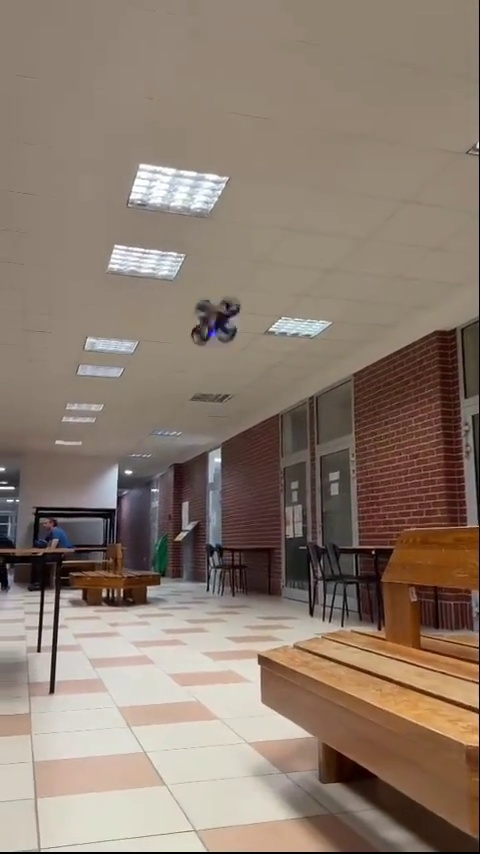drone: (188, 298, 246, 348)
no vest: (29, 511, 72, 572)
